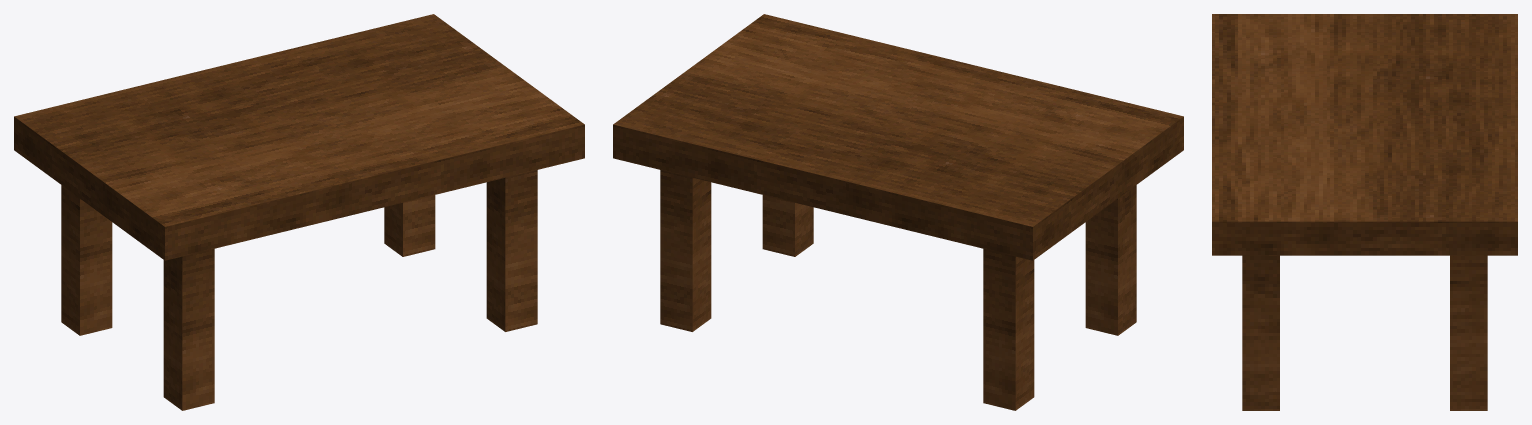
Rendered from Table.glb.
3 renders of one model, left to right at view 1: azimuth 30°, elevation 25°; view 2: azimuth 150°, elevation 25°; view 3: azimuth 270°, elevation 25°, orthographic.
Visible parts, largest first — view 1: Cube.004; view 2: Cube.004; view 3: Cube.004.
Boxes of the visible parts, x1,y1,x2,y2 form: Cube.004: [14, 14, 584, 410]; Cube.004: [613, 14, 1183, 410]; Cube.004: [1212, 14, 1517, 410].
Bounding box in the file's own units: 2.6 × 1.2 × 1.62.
1 material, 1 textured.
